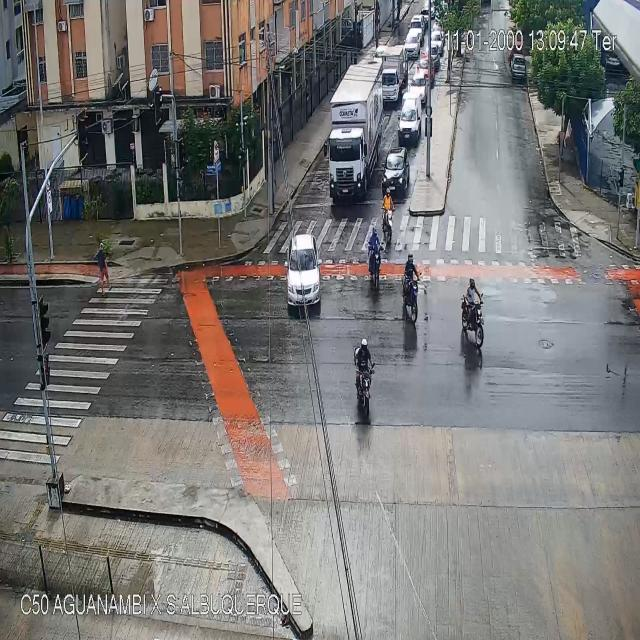Car: (285, 235, 320, 312), (384, 150, 408, 198), (398, 101, 422, 142), (408, 72, 427, 102), (402, 30, 420, 59), (418, 53, 436, 82), (424, 44, 441, 70), (511, 57, 526, 83), (430, 30, 443, 56), (408, 15, 425, 34)
Motorcycle: (352, 338, 374, 422), (461, 282, 484, 350), (402, 253, 420, 324), (368, 226, 385, 290), (382, 188, 395, 243)
Truck: (322, 63, 384, 204), (381, 47, 403, 105)
